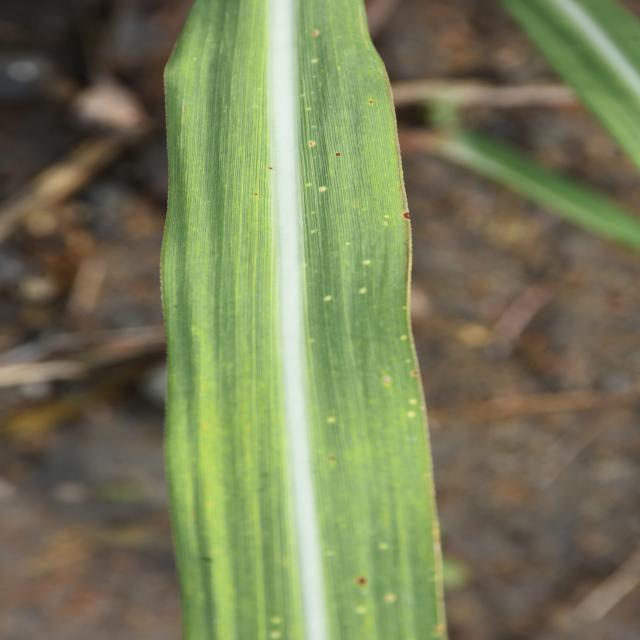Sugarcane: (162, 0, 450, 640)
